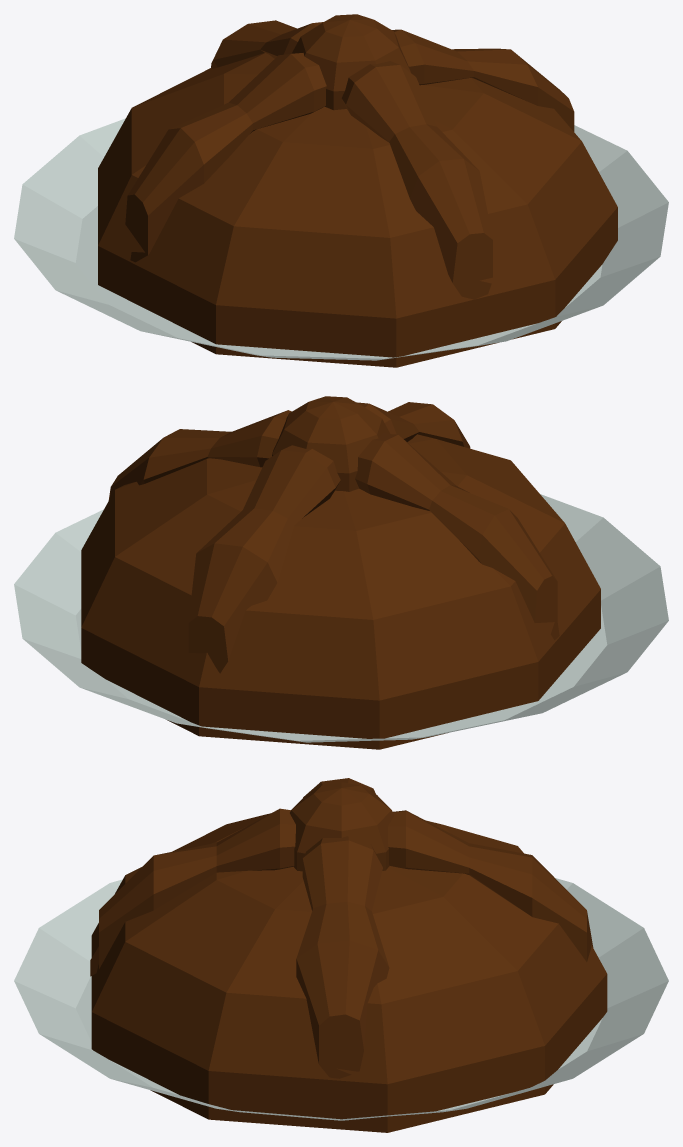
Rendered from ofrenda_alimento.obj.
The picture shows the model from 3 angles, top to bottom: view 1: azimuth 30°, elevation 25°; view 2: azimuth 150°, elevation 25°; view 3: azimuth 270°, elevation 25°; orthographic projection.
Visible parts, largest first — view 1: ofrenda_alimento; view 2: ofrenda_alimento; view 3: ofrenda_alimento.
Boxes of the visible parts, <box> form: ofrenda_alimento: <box>14,14,668,367</box>; ofrenda_alimento: <box>14,396,668,749</box>; ofrenda_alimento: <box>14,778,668,1132</box>.
Bounding box in the file's own units: 0.0458 × 0.0202 × 0.0458.
